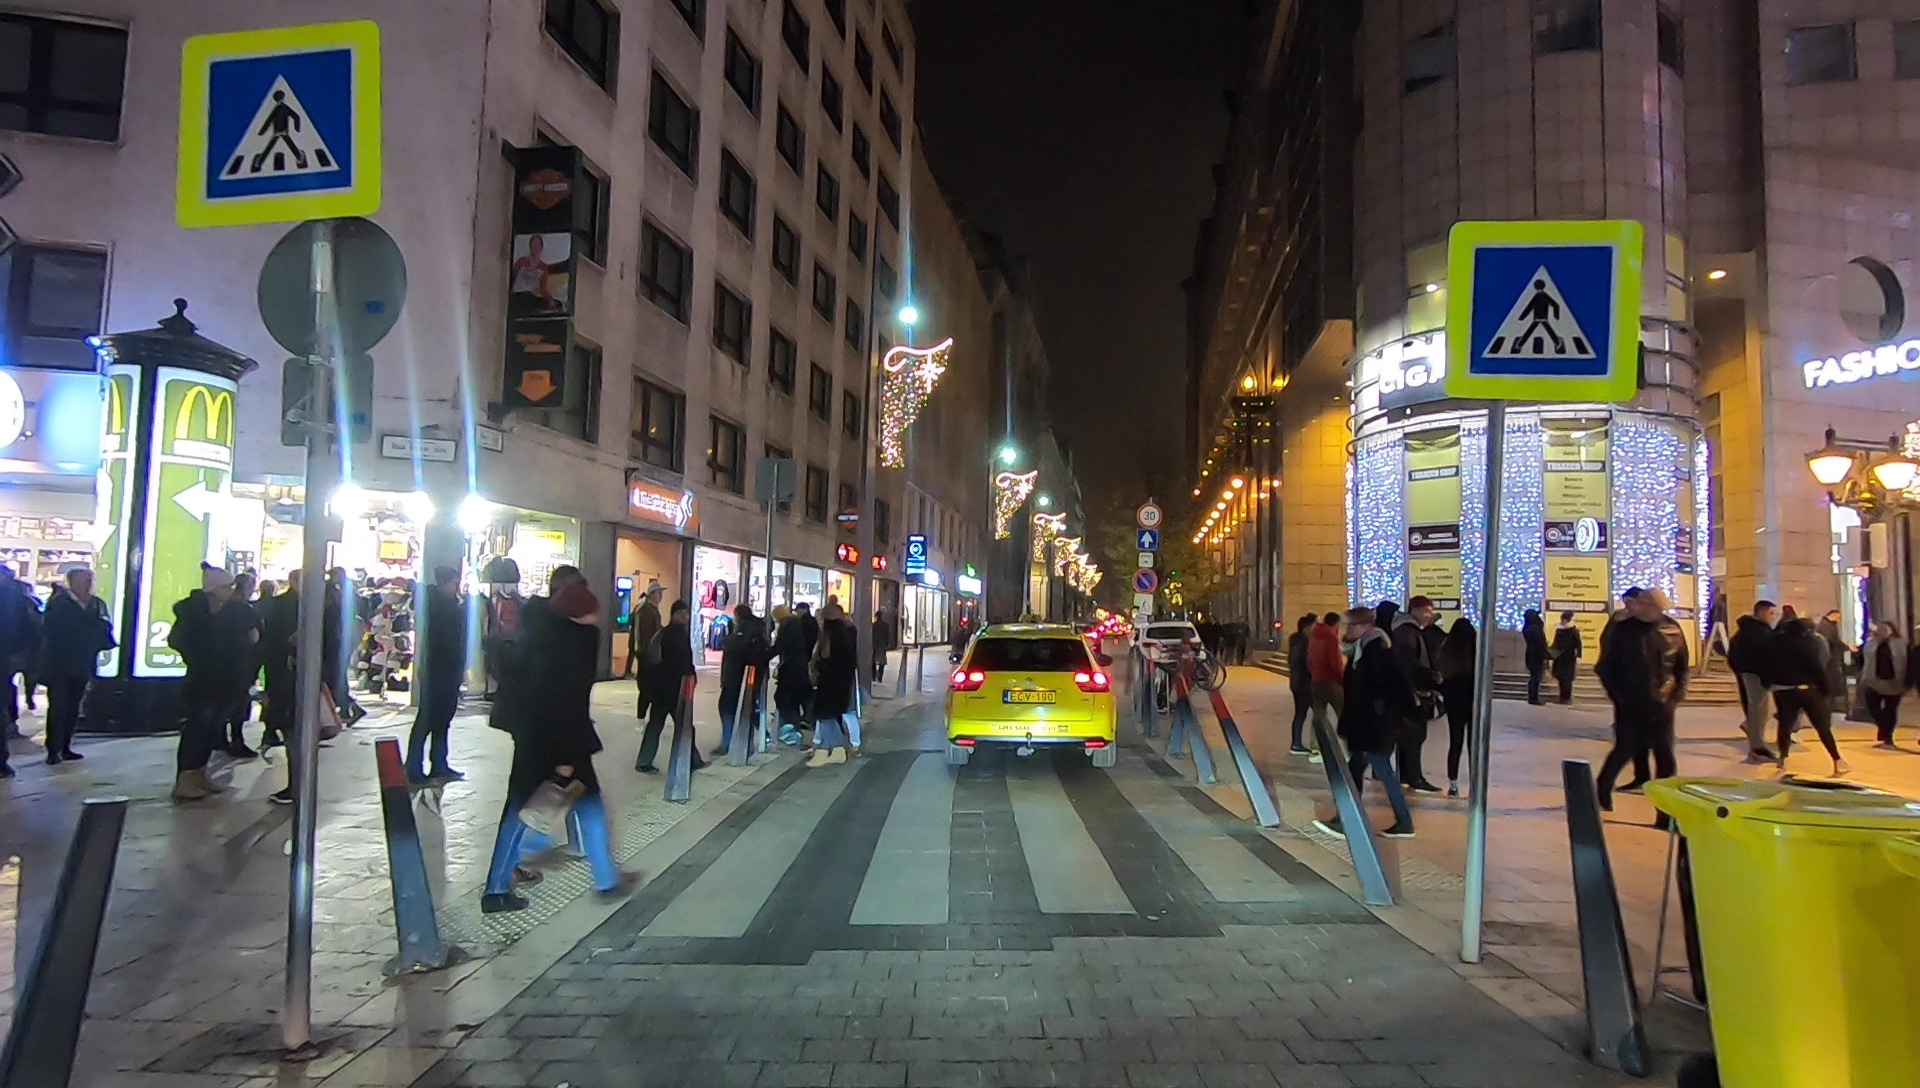person: (480, 571, 638, 917), (1317, 611, 1417, 845), (169, 563, 236, 802), (1773, 599, 1847, 782), (410, 565, 465, 793), (51, 563, 106, 763), (645, 595, 704, 771), (276, 573, 319, 808), (1730, 599, 1778, 761), (1854, 617, 1910, 756), (1404, 600, 1443, 800), (1447, 623, 1489, 799), (715, 610, 762, 758), (765, 604, 810, 750), (815, 604, 849, 773), (1371, 600, 1404, 767), (1282, 611, 1317, 761), (1308, 617, 1345, 756), (232, 571, 258, 763), (252, 578, 280, 734), (1519, 602, 1549, 702), (1551, 611, 1580, 700)
